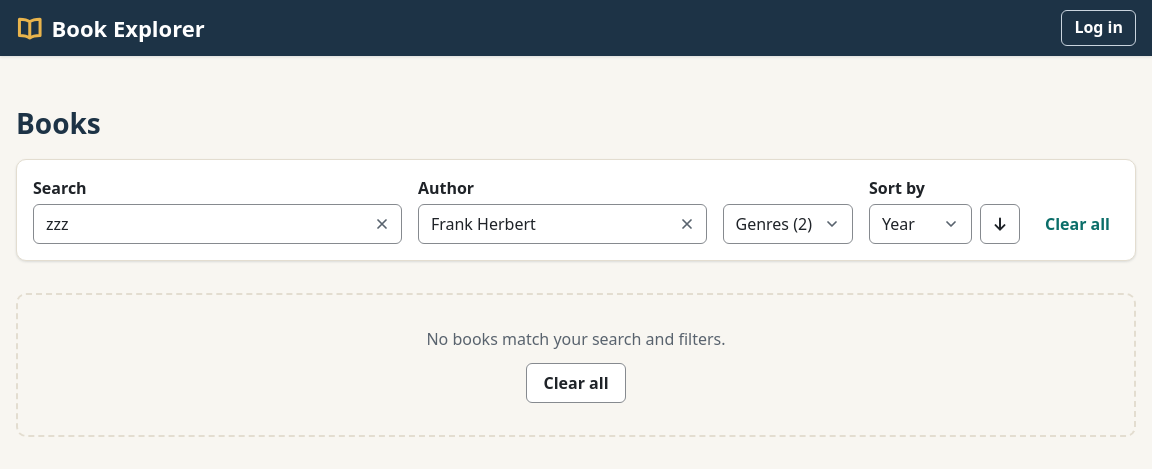
Scenario: no match shows the empty state, and Clear all keeps only the sort and focuses the search box
The width and height of the screenshot is (1152, 469).
What coordinates should you click on to do the following:
click the button "Clear all" below "No books match your search and filters."
I would click on:
 (576, 383)
Its box is [526,363,626,403].
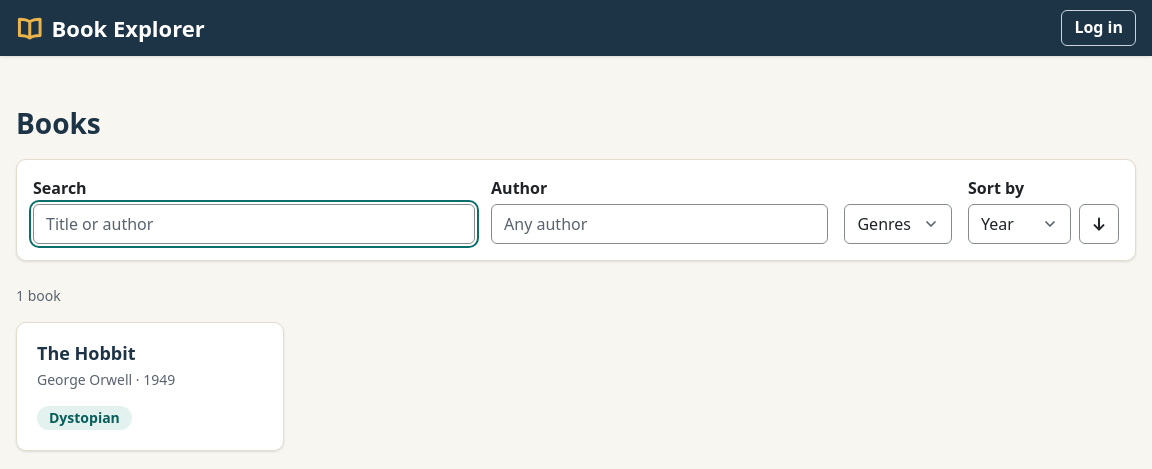
Check: the link "The Hobbit" is shown, box [37,341,136,365]
